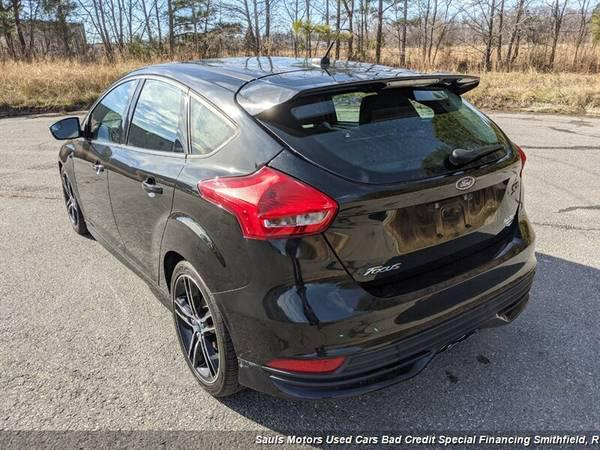Front_Left_Door: (72, 139, 121, 257)
Front_Left_Window: (78, 81, 144, 146)
Left_Taillight: (196, 167, 336, 239)
Rear_Bumper: (216, 199, 536, 399)
Rear_Fender: (163, 90, 245, 294)
Rear_Left_Door: (111, 154, 191, 312)
Rear_Left_Window: (121, 80, 187, 158)
Rear_Windshield: (252, 78, 513, 188)
Roof: (109, 55, 479, 177)
Tailgate: (265, 145, 525, 287)
Wheel: (170, 269, 238, 400), (63, 174, 81, 234)
